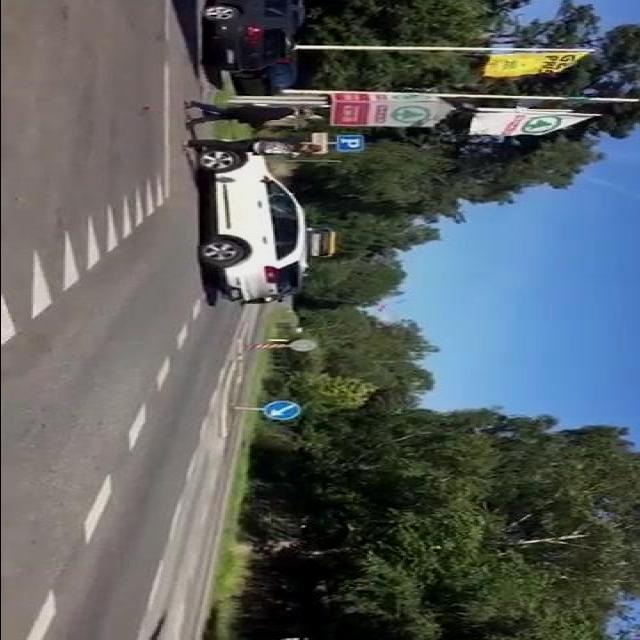bus: (302, 223, 346, 264)
